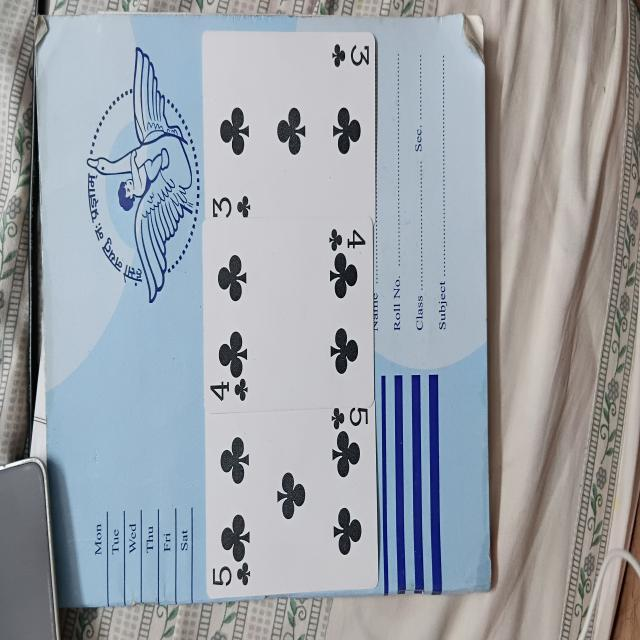3C: (202, 30, 378, 222)
4C: (202, 223, 374, 406)
5C: (203, 406, 382, 595)
